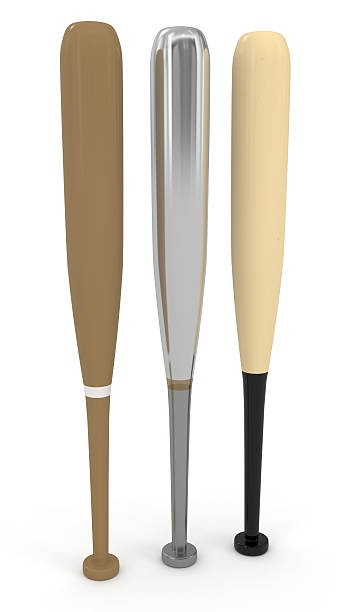bita: (59, 24, 126, 587), (227, 22, 294, 585), (144, 21, 211, 584)
